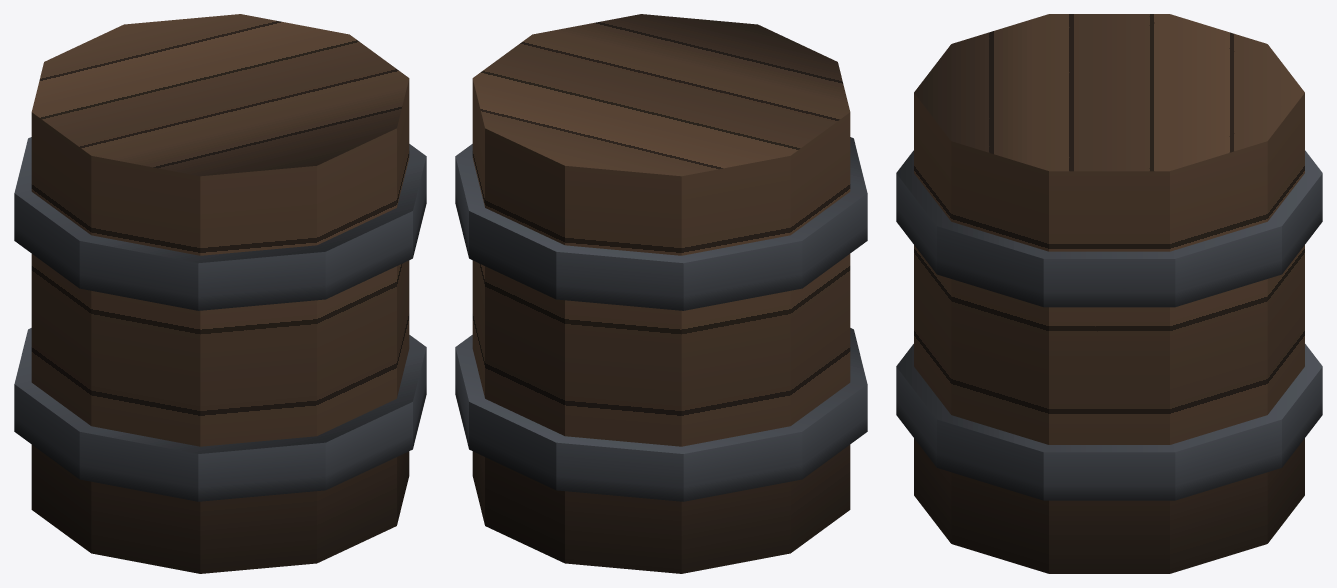
Rendered from barrel.glb.
3 renders of one model, left to right at view 1: azimuth 30°, elevation 25°; view 2: azimuth 150°, elevation 25°; view 3: azimuth 270°, elevation 25°, orthographic.
Visible parts, largest first — view 1: barrel; view 2: barrel; view 3: barrel.
Boxes of the visible parts, <box> form: barrel: <box>14,14,426,573</box>; barrel: <box>455,14,867,573</box>; barrel: <box>896,14,1322,573</box>.
Bounding box in the file's own units: 0.4565 × 0.5 × 0.48.
Materials: 1 (1 with a texture image).
